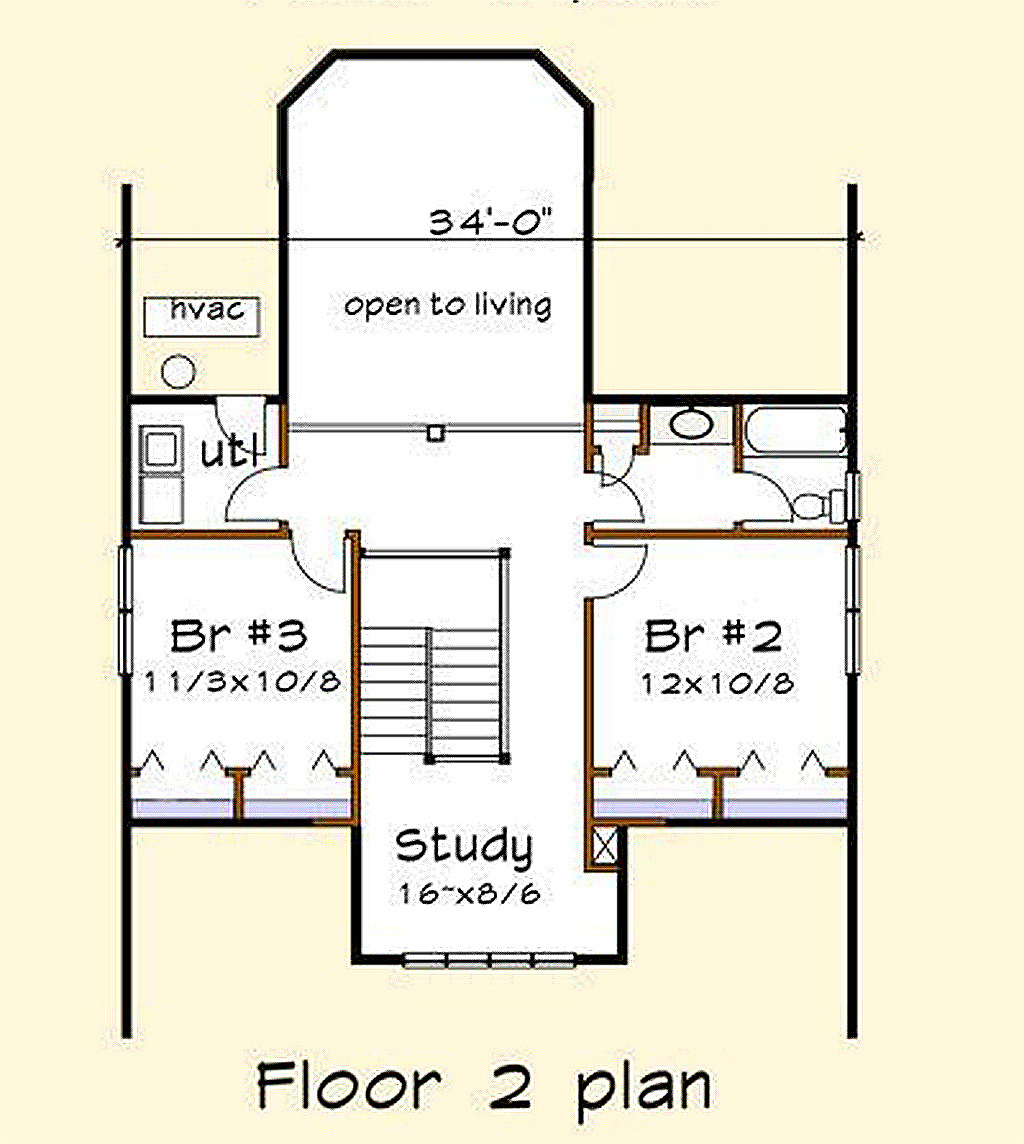door: (202, 384, 279, 454), (582, 537, 658, 602), (732, 466, 802, 528), (224, 466, 296, 526), (586, 468, 647, 528), (291, 537, 349, 595), (589, 430, 649, 486)
large_sink: (786, 472, 860, 528)
small_sink: (647, 400, 739, 452)
stairs: (358, 542, 535, 779)
tub: (740, 396, 856, 461)
window: (114, 544, 142, 684), (840, 540, 863, 672)
